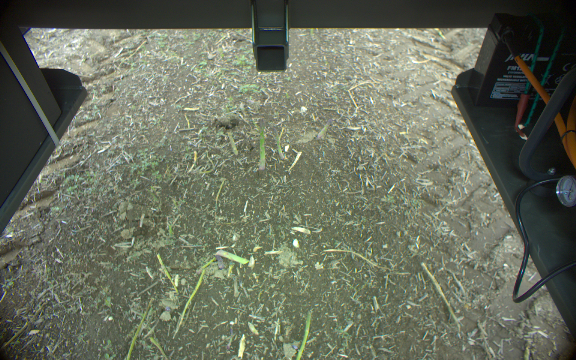aspa: (287, 307, 315, 360), (255, 118, 268, 170), (214, 247, 249, 265), (271, 125, 284, 160), (209, 244, 226, 270), (317, 117, 335, 140)
